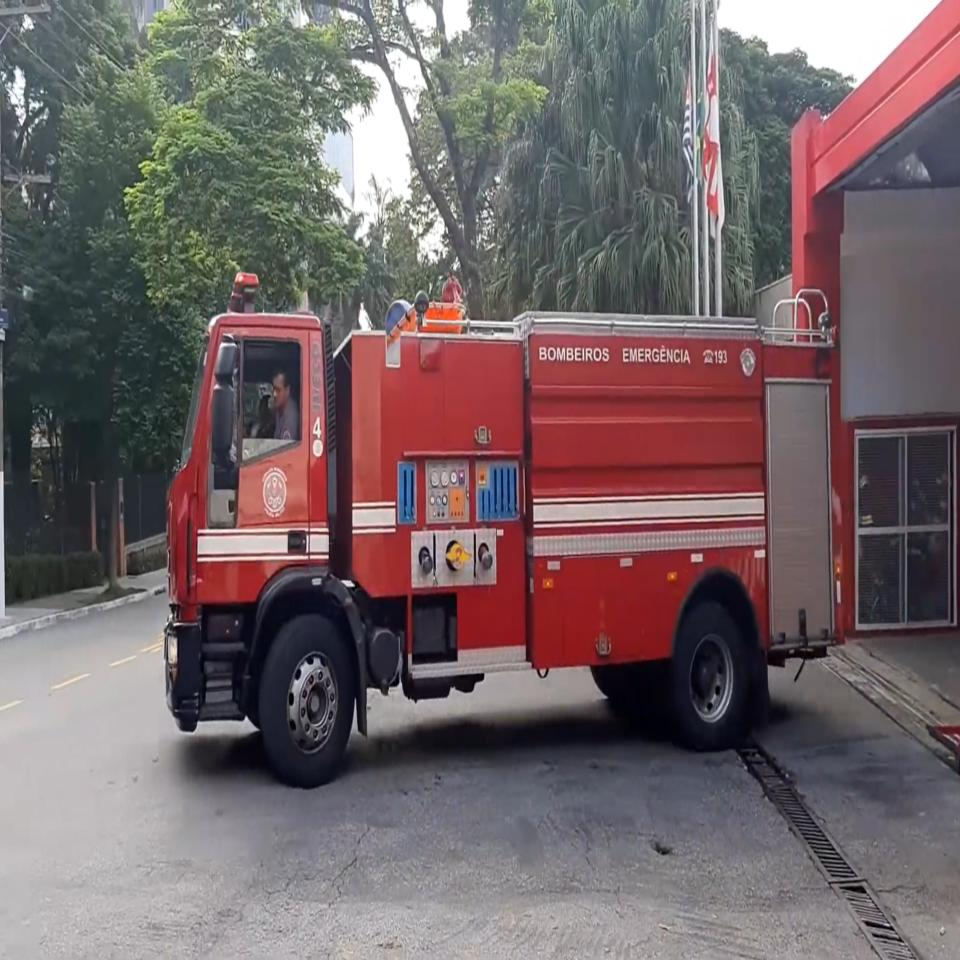viatura: (160, 270, 850, 788)
